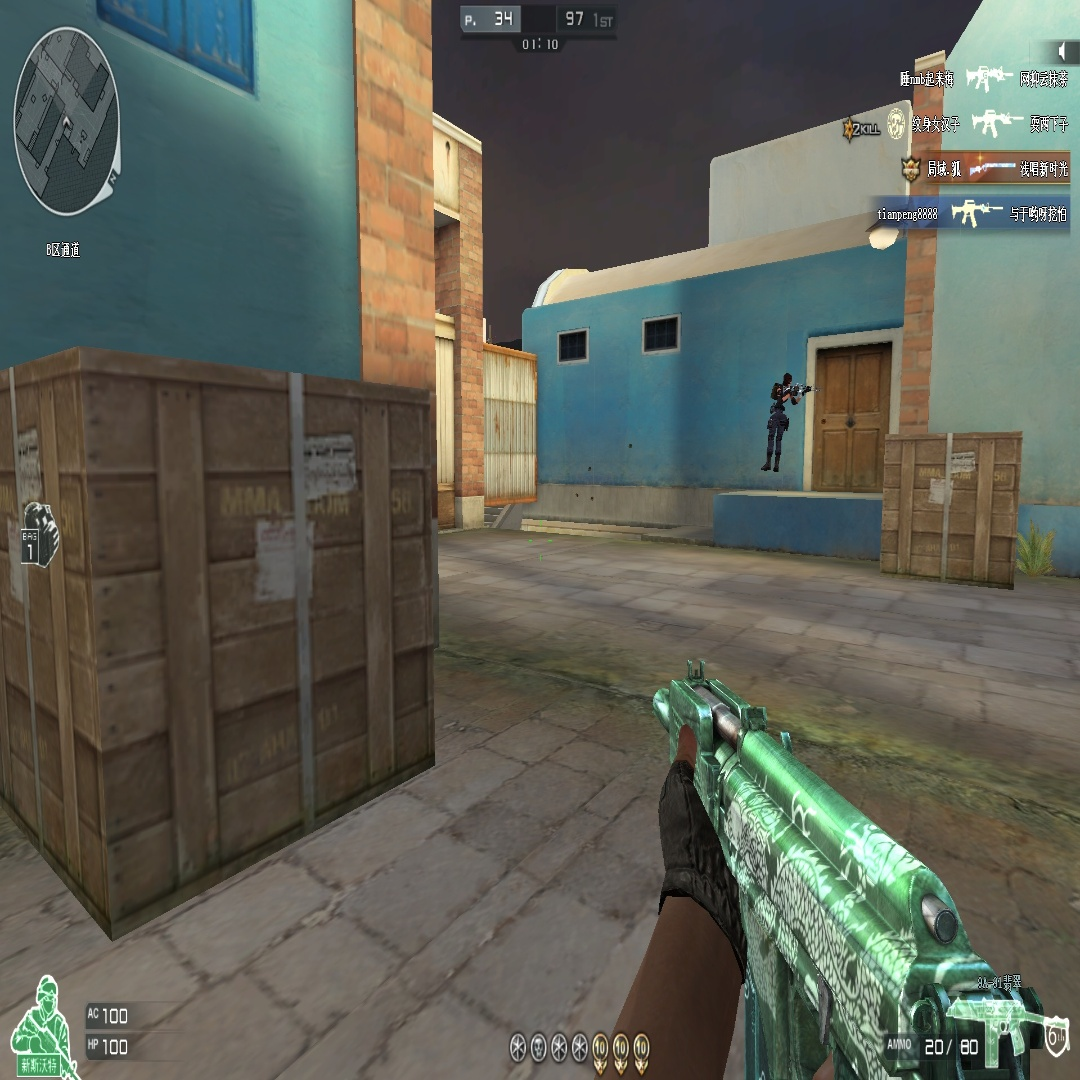head: (783, 371, 792, 387)
p: (763, 372, 803, 471)
